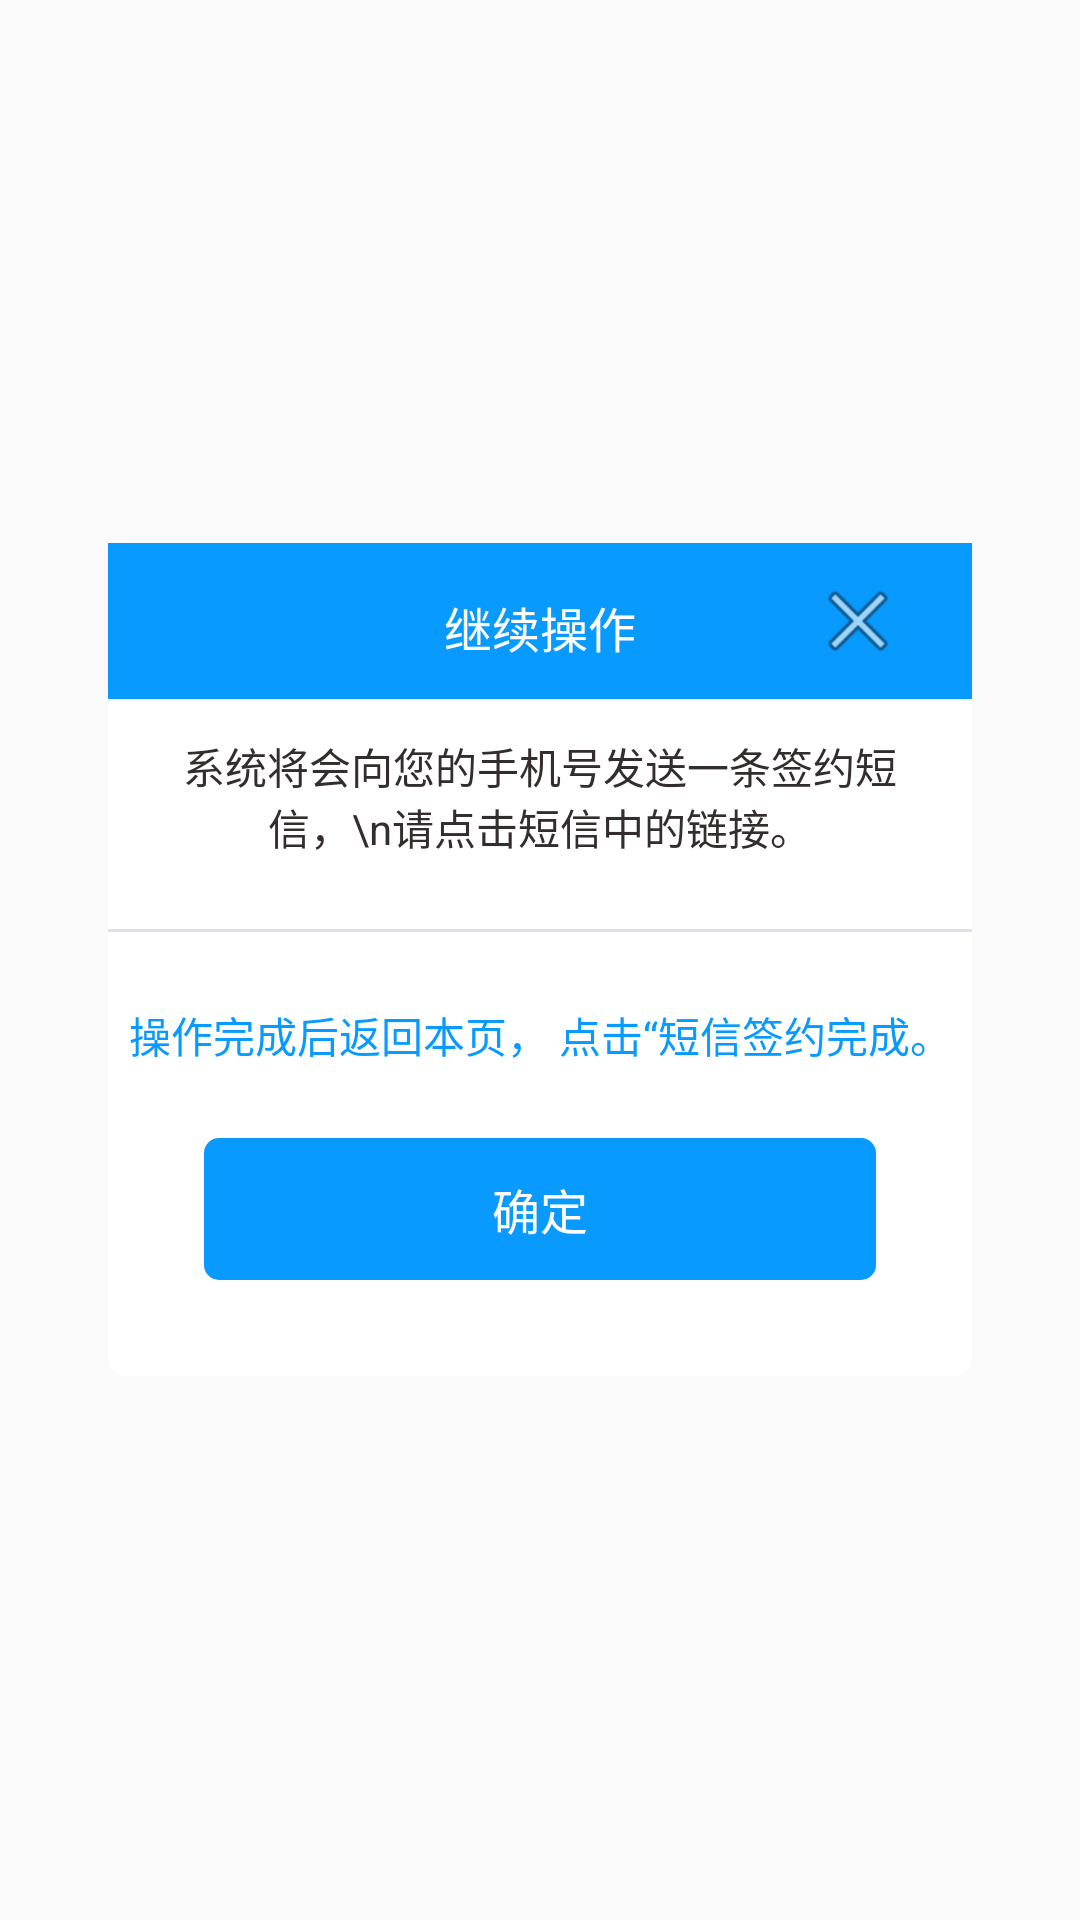

Where to tap for icons on this 1080 x 1920 app screen, as (x=x, y=y):
close clear cancel: (x=858, y=621)
